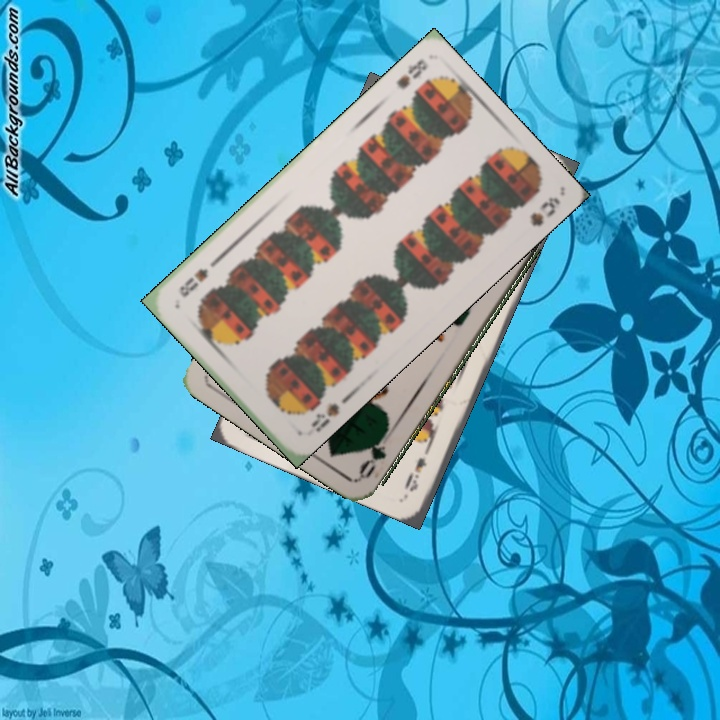E9: (400, 440, 434, 494)
GO: (355, 423, 392, 481)
S8: (392, 54, 431, 92), (306, 399, 342, 435)
